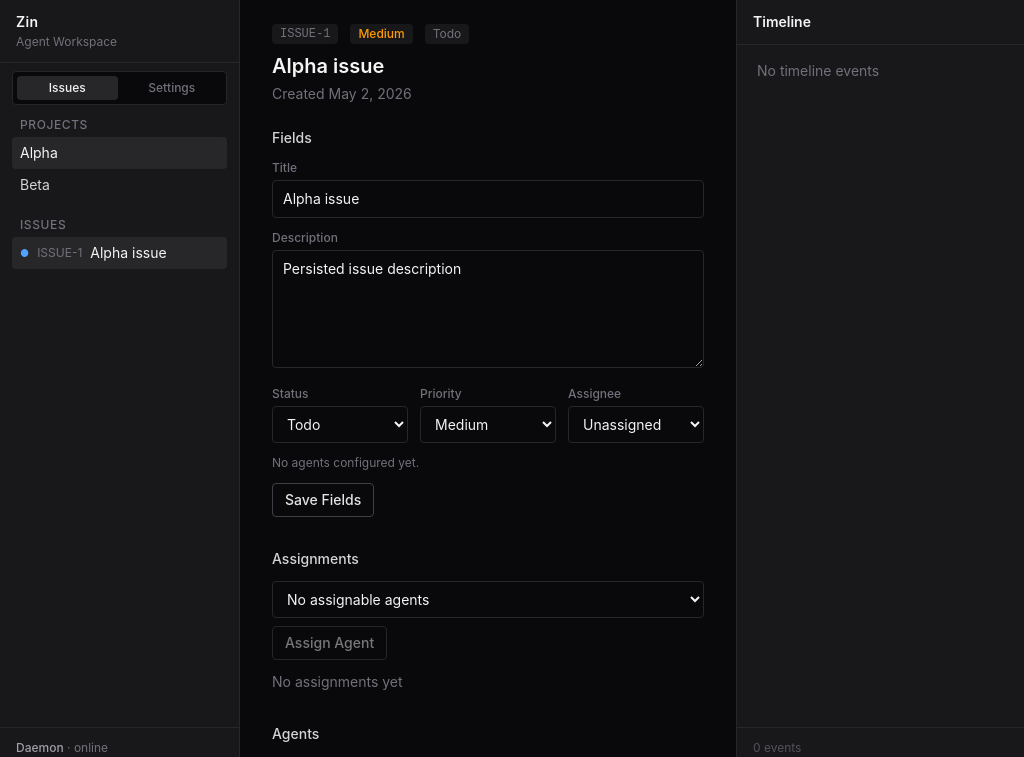
Test: App › loads issue detail from the daemon as selection changes
The width and height of the screenshot is (1024, 757).
Expected: the heading "Alpha issue" is shown, [272, 54, 384, 78]
Expected: the text box showing "Persisted issue description" is shown, [272, 250, 704, 368]
Click the button "Beta": click(120, 185) [12, 169, 227, 201]
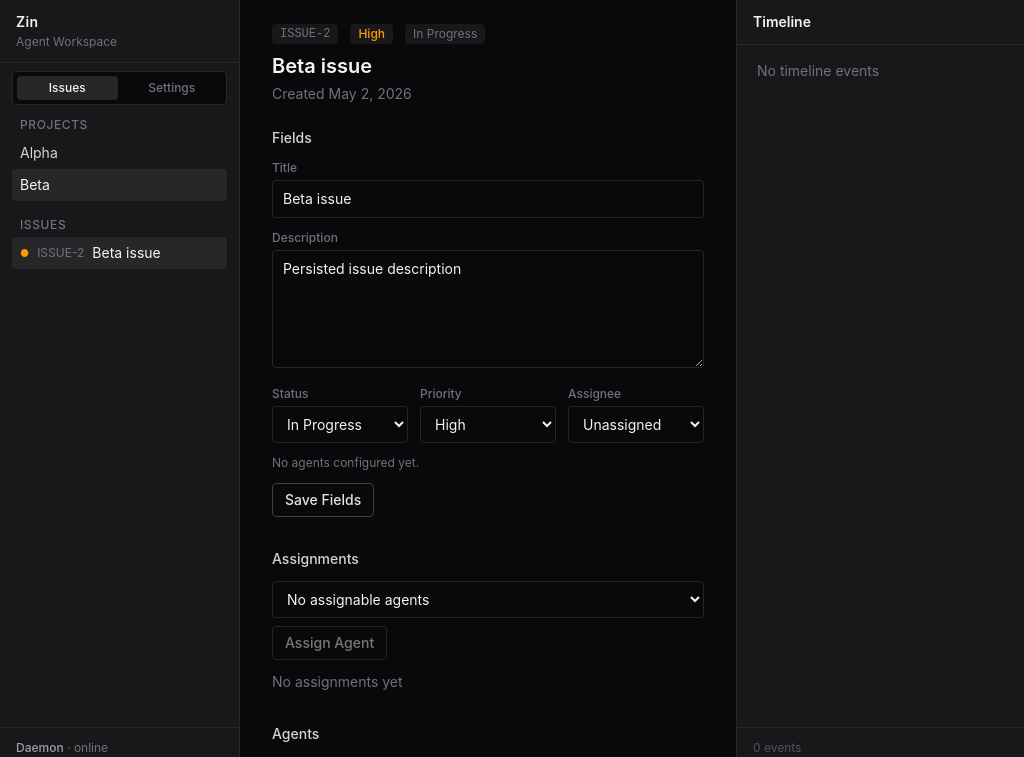
Now the heading "Beta issue" is shown, box [272, 54, 372, 78]
Now the text "In Progress" is shown, box [405, 24, 485, 44]
